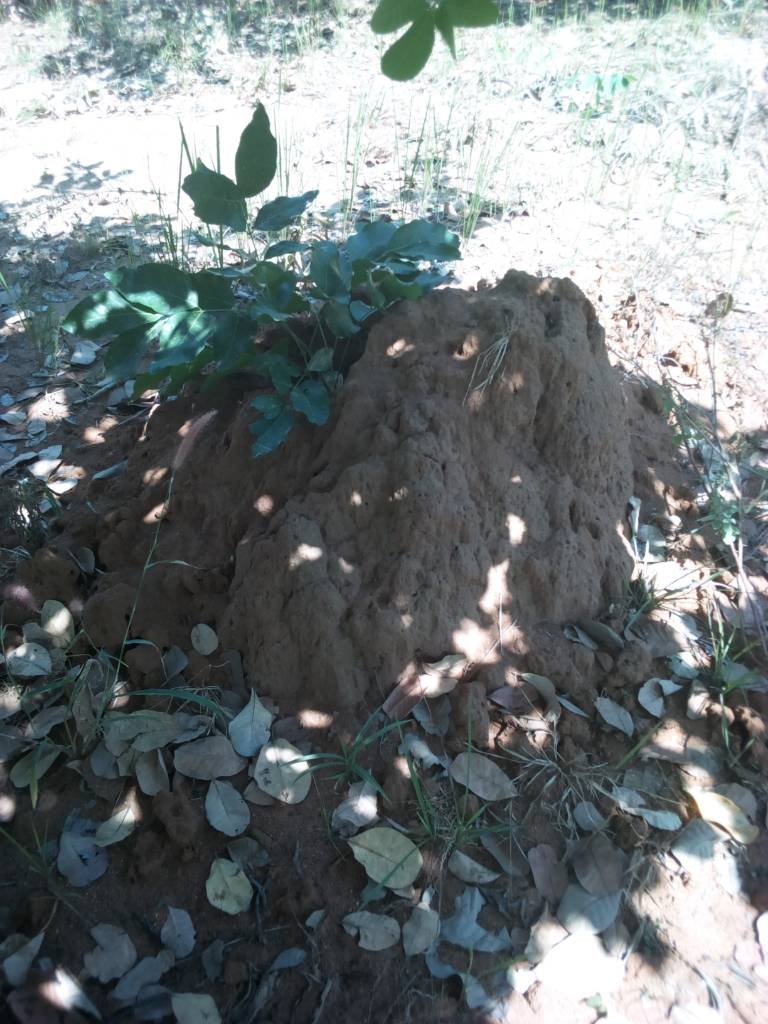Termites: (238, 292, 633, 678)
